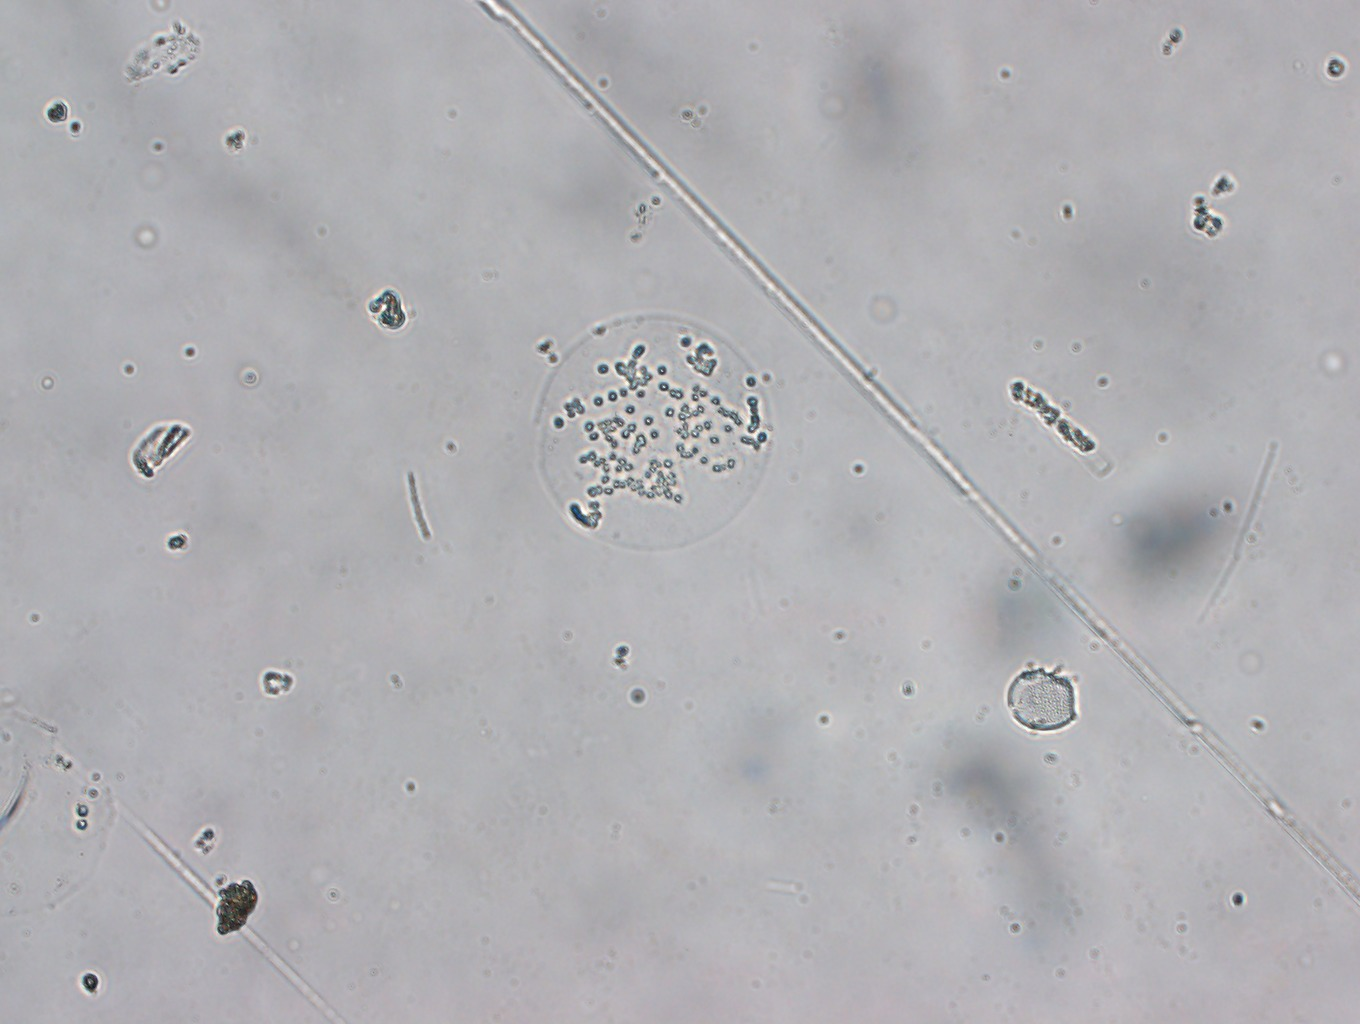coscinodiscus: (534, 310, 776, 552)
